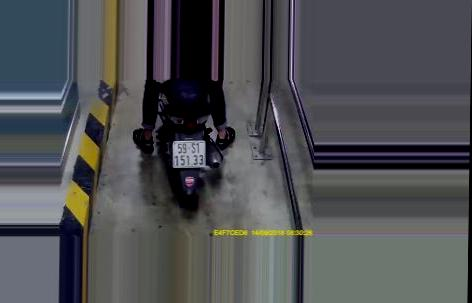License_Plate: (165, 138, 209, 170)
